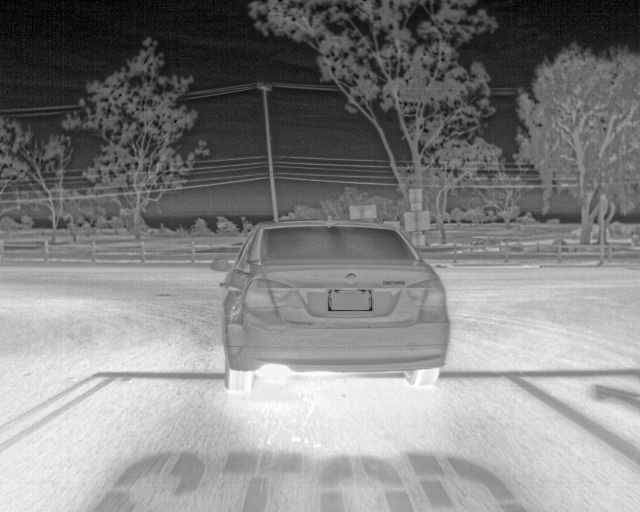vehicle: (222, 216, 451, 396)
